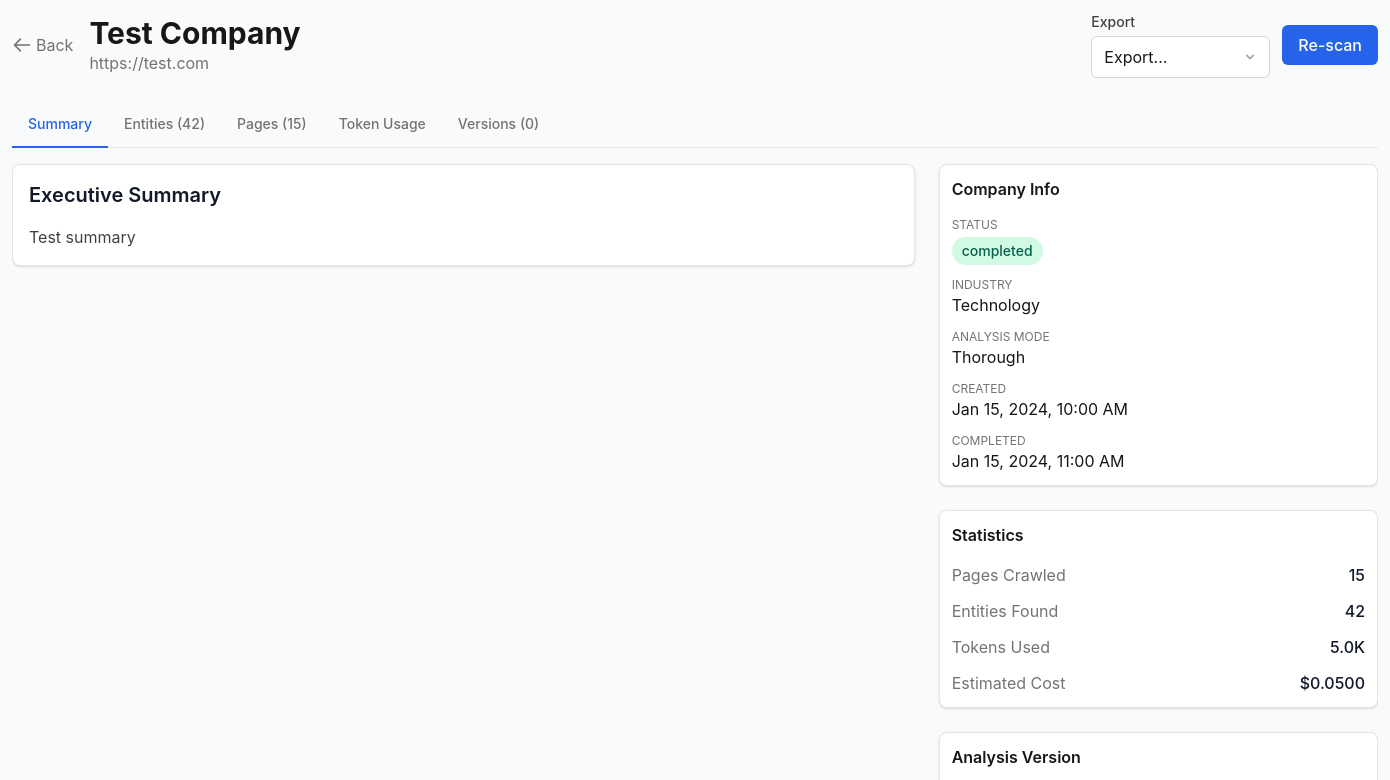
Pagination › shows pagination when more than one page
Click the tab "Entities (42)" at [165, 125], box [108,102,221,148]
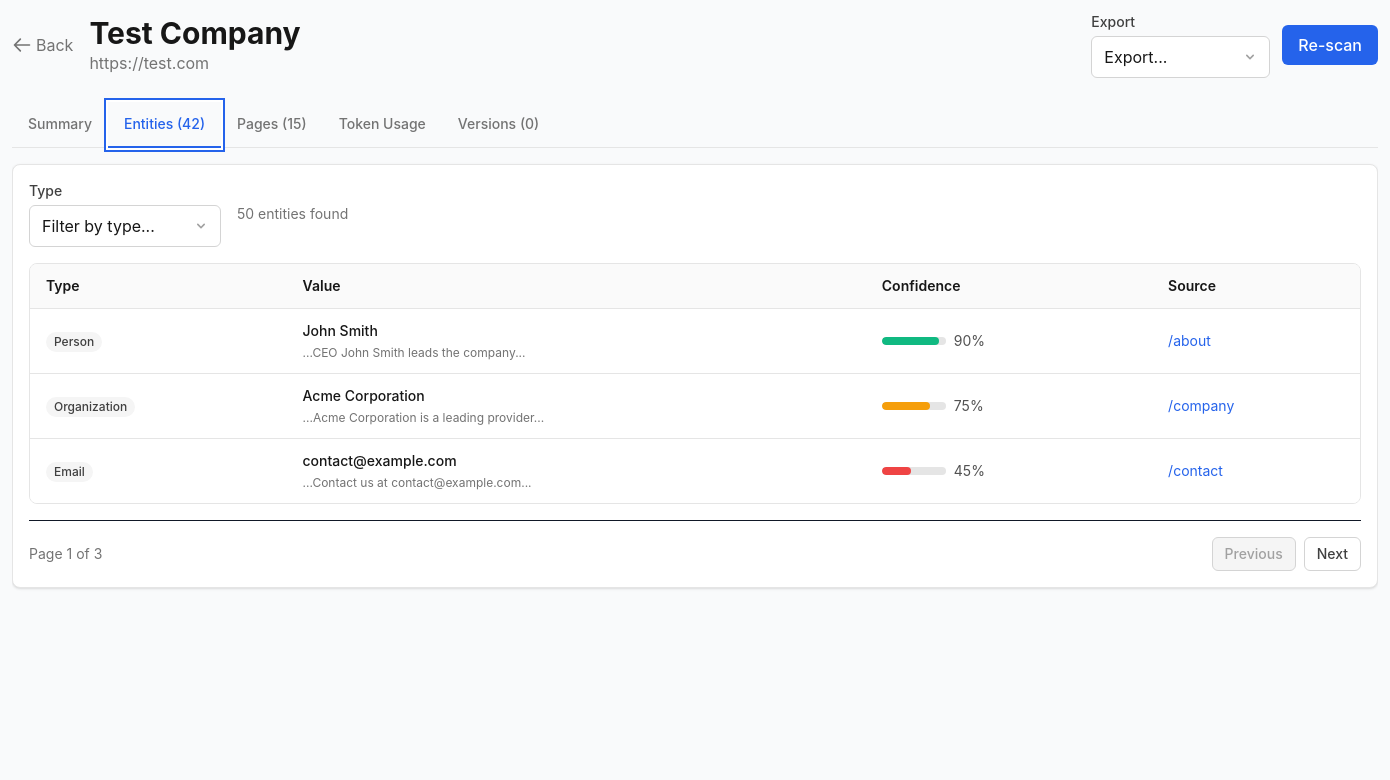
Now the text "John Smith" is shown, box [302,322,378,339]
Now the text "Page 1 of 3" is shown, box [29,544,102,564]
Now the button "Previous" is shown, box [1212,537,1296,571]
